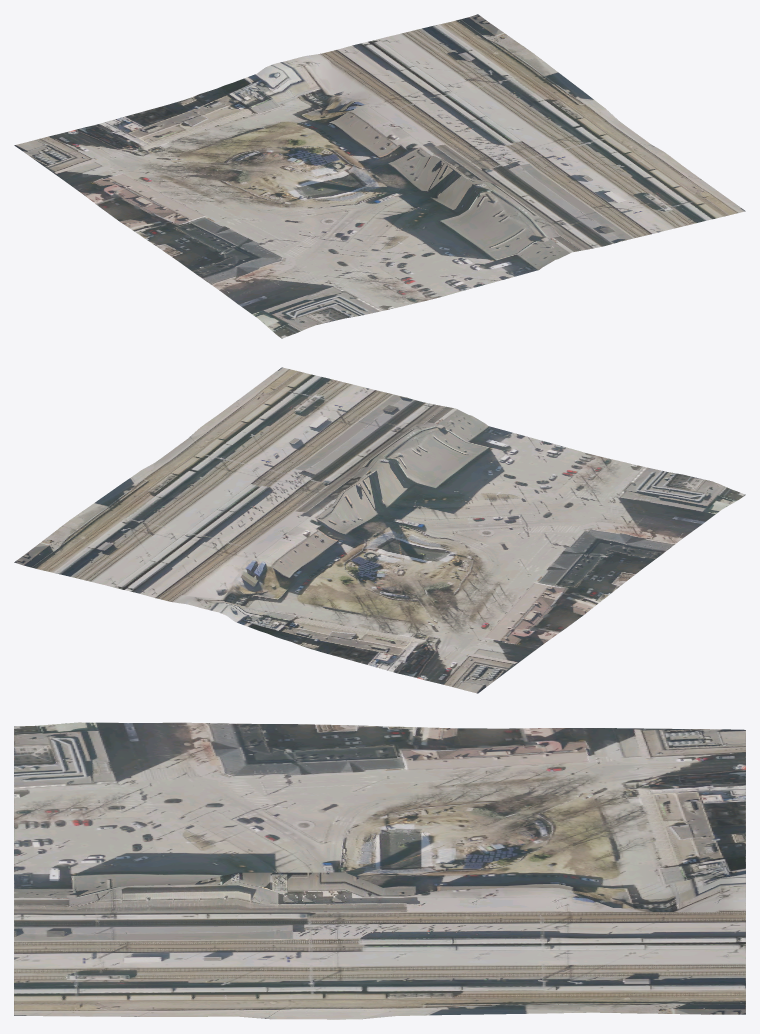
Rendered from CM_Terrain_24487797_6821022.fbx.
3 views of the same model, one above another, from view 1: azimuth 30°, elevation 25°; view 2: azimuth 150°, elevation 25°; view 3: azimuth 270°, elevation 25° (orthographic). The views are drawn at different scales.
Parts seen in each view (by area): view 1: CM_Terrain_24487797_6821022_LOD0; view 2: CM_Terrain_24487797_6821022_LOD0; view 3: CM_Terrain_24487797_6821022_LOD0.
Part boxes in pixels (left/top/right/bottom): CM_Terrain_24487797_6821022_LOD0: left=14, top=14, right=745, bottom=338; CM_Terrain_24487797_6821022_LOD0: left=14, top=367, right=745, bottom=693; CM_Terrain_24487797_6821022_LOD0: left=14, top=722, right=745, bottom=1019.
Size of what is drawn, in the model's own units: 205 by 12.46 by 205.
